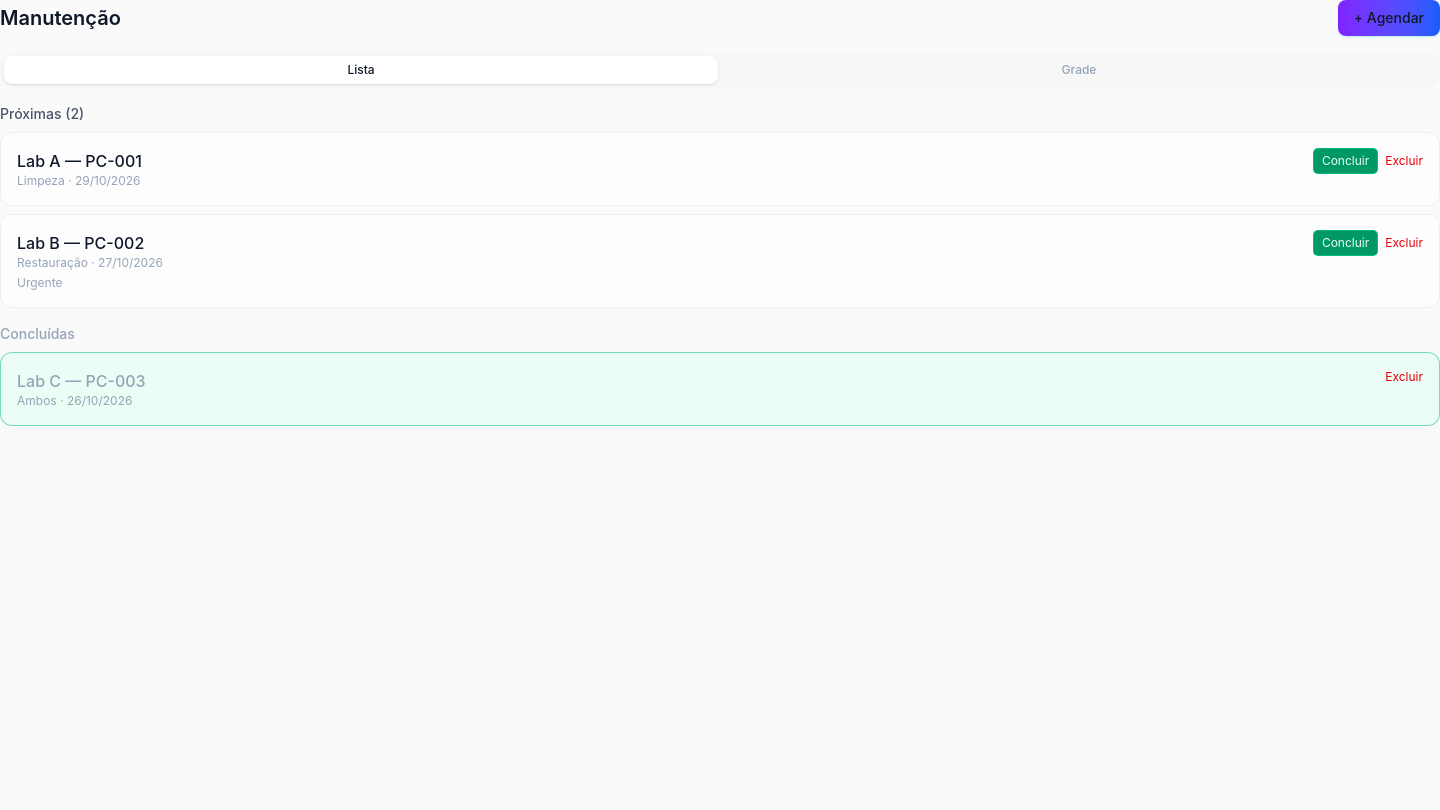
Test: Maintenance › abre formulário ao clicar "+ Agendar"
The width and height of the screenshot is (1440, 810).
Click the button "+ Agendar" at (1389, 18), box [1338,0,1439,36]
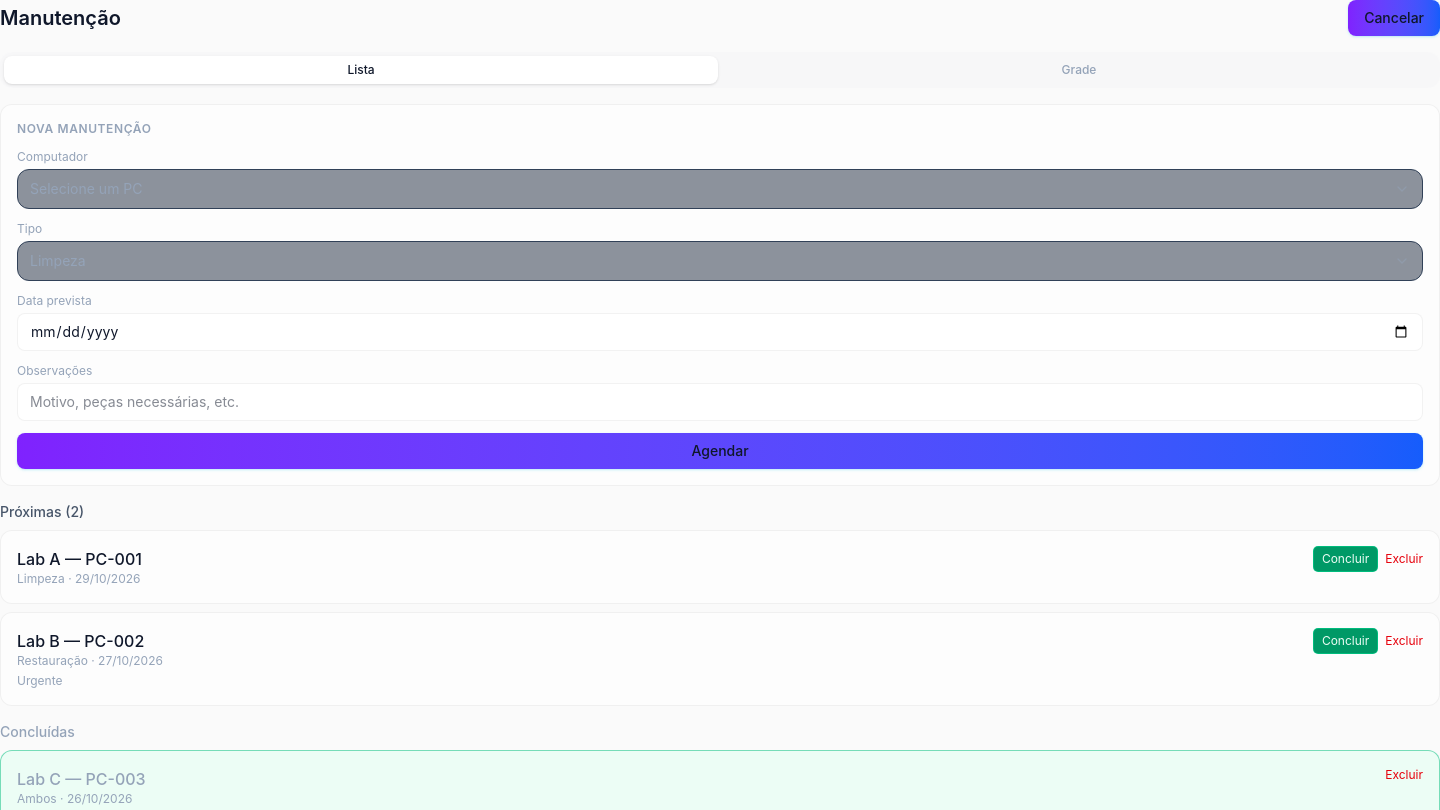
Expected: the heading "Nova Manutenção" is shown, [17,121,152,136]
